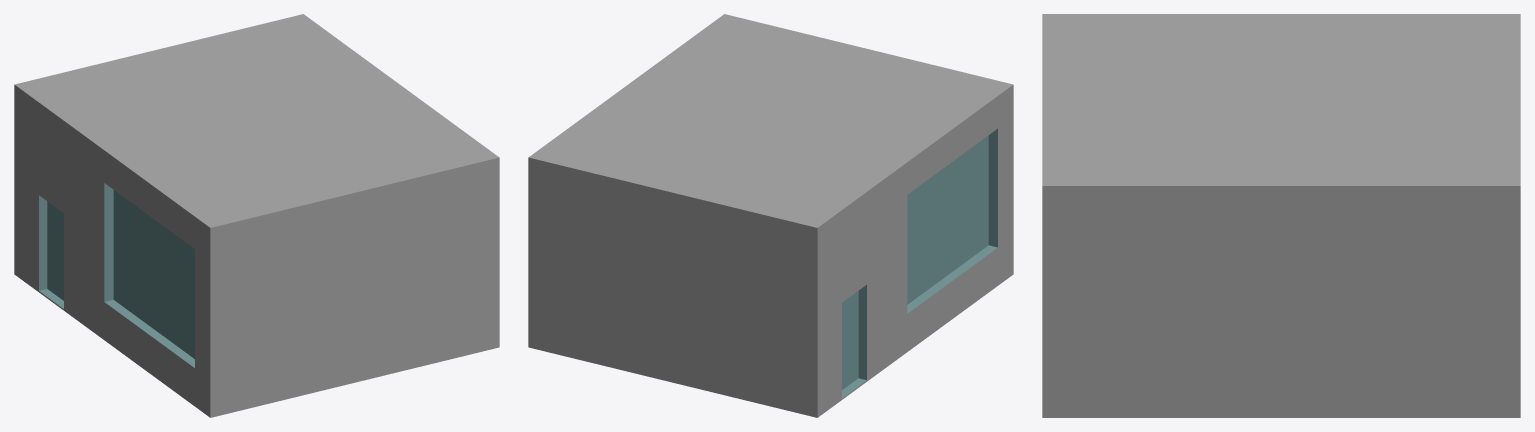
File: housee.fbx
The picture shows the model from 3 angles, left to right: view 1: azimuth 30°, elevation 25°; view 2: azimuth 150°, elevation 25°; view 3: azimuth 270°, elevation 25°; orthographic projection. The views are drawn at different scales.
Parts seen in each view (by area): view 1: heusa:Housekiosk; view 2: heusa:Housekiosk; view 3: heusa:Housekiosk.
Part boxes in pixels (x1,y1,x2,y2): heusa:Housekiosk: [14, 14, 499, 417]; heusa:Housekiosk: [528, 14, 1013, 417]; heusa:Housekiosk: [1042, 14, 1520, 417].
Size of the model in its own units: 20.37 by 12.8 by 23.93.
